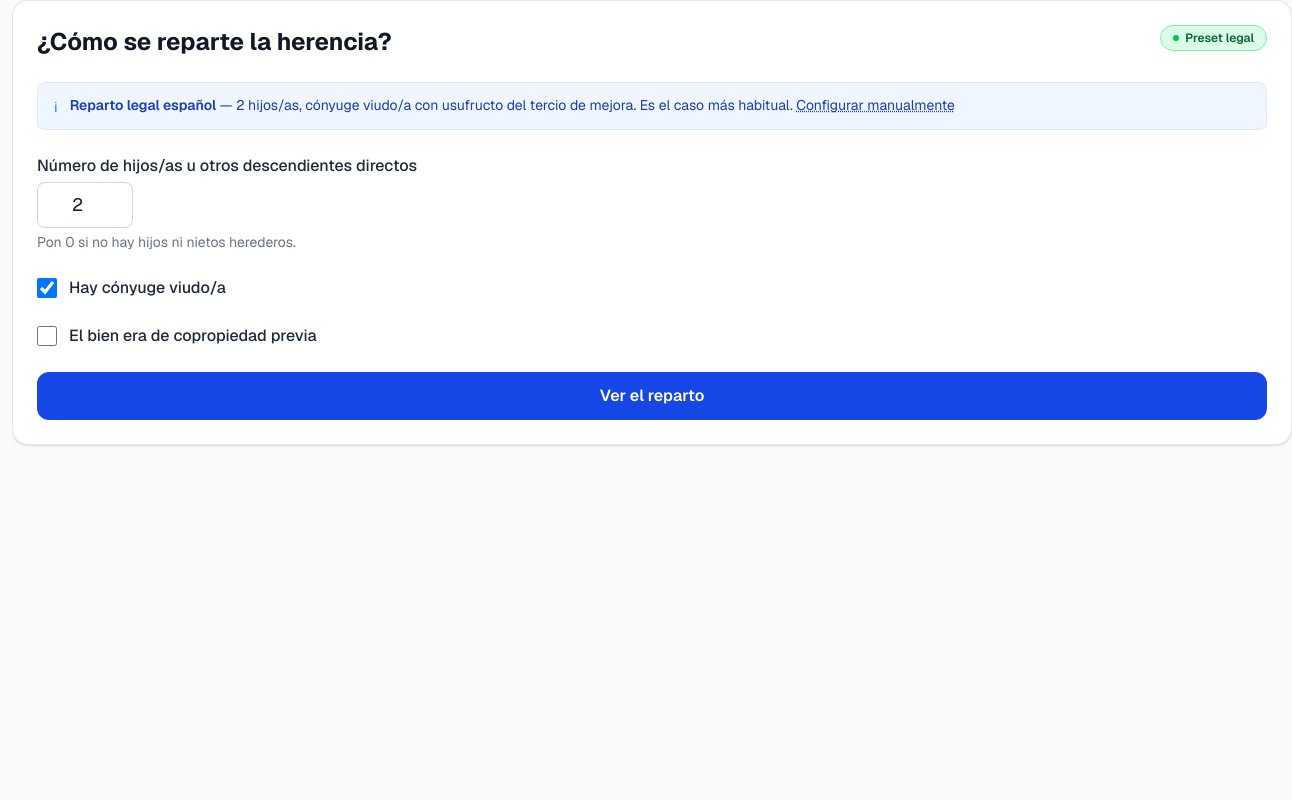
Test: SimulatorForm › submits with copropiedad correctly
This screenshot has width=1292, height=800.
Click the checkbox labelled "El bien era de copropiedad previa".
click(47, 336)  # box [37,326,57,346]
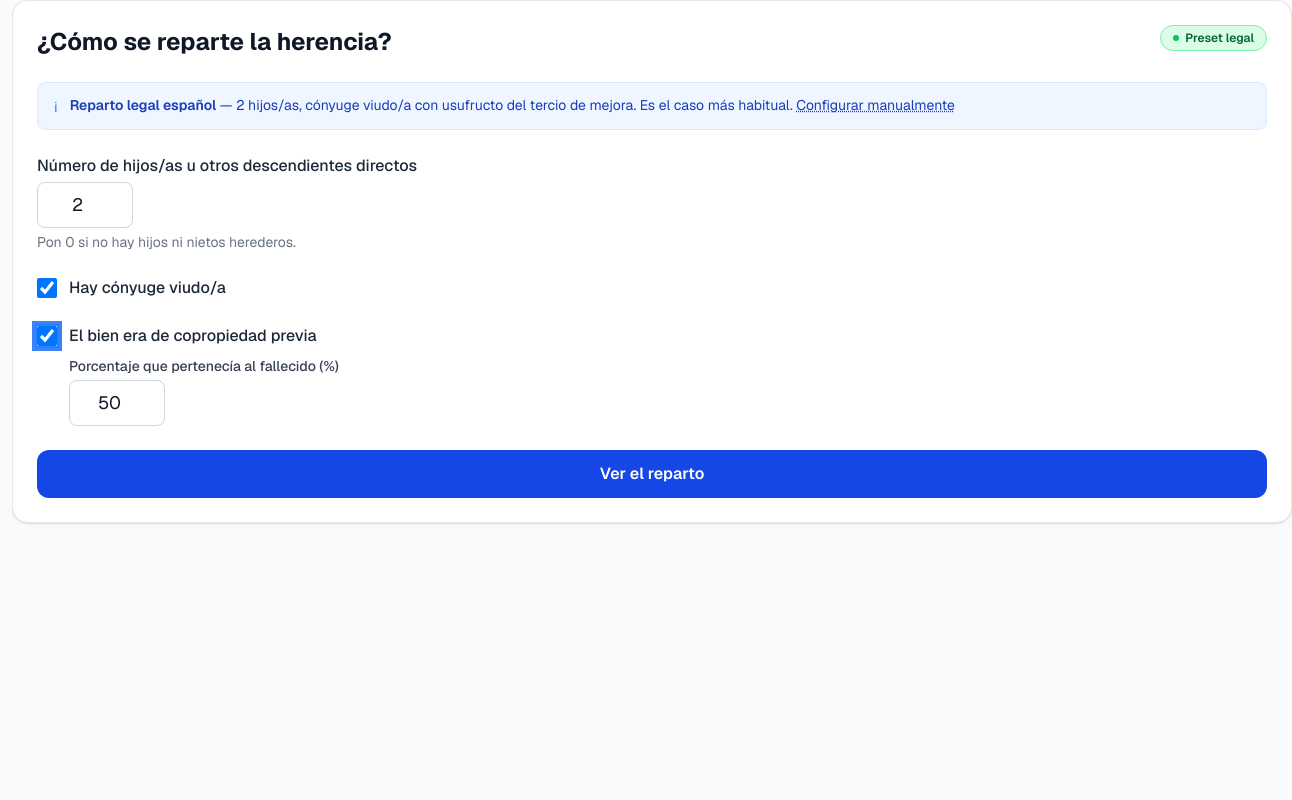
Replace the text in the number field labelled "Porcentaje que pertenecía al fallecido (%)" with "60" at (117, 403), box [69,380,165,426]
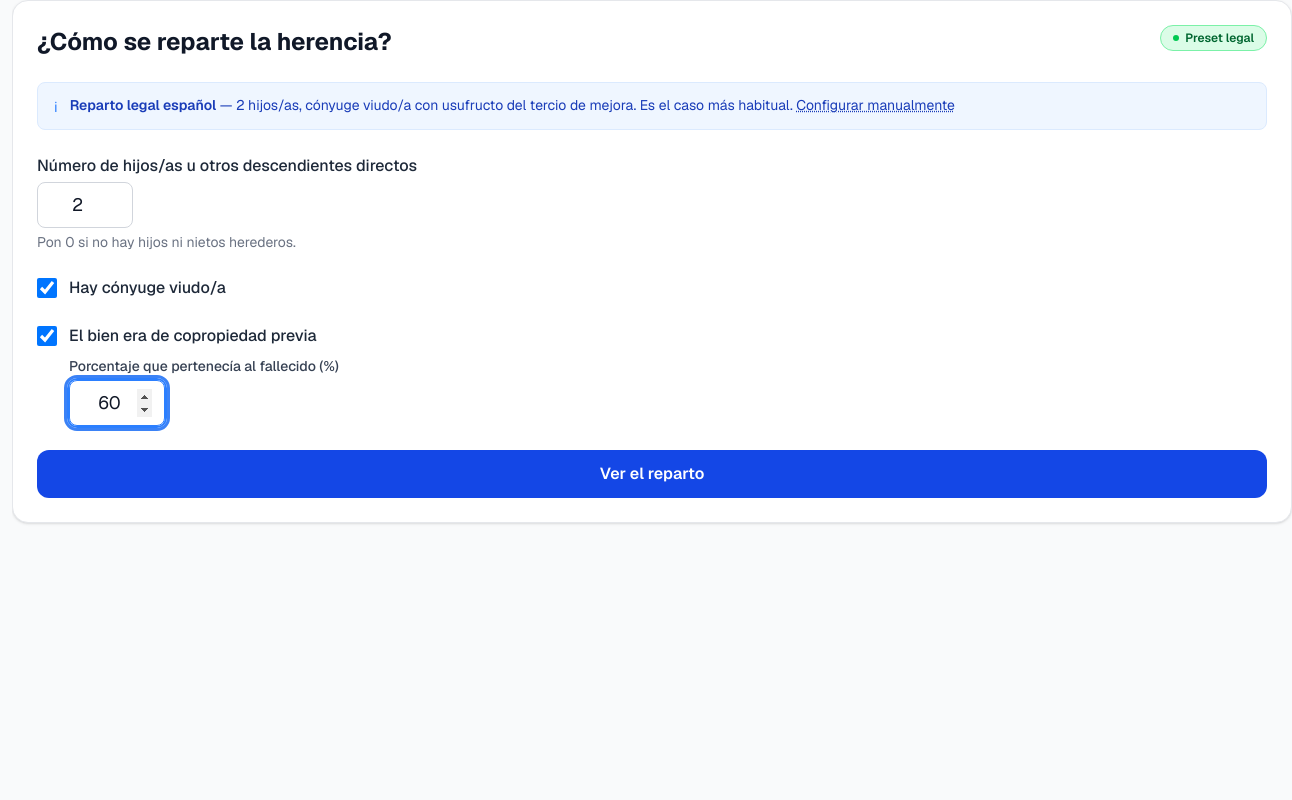
Click the button "Ver el reparto".
click(652, 474)  # box [37,450,1267,498]
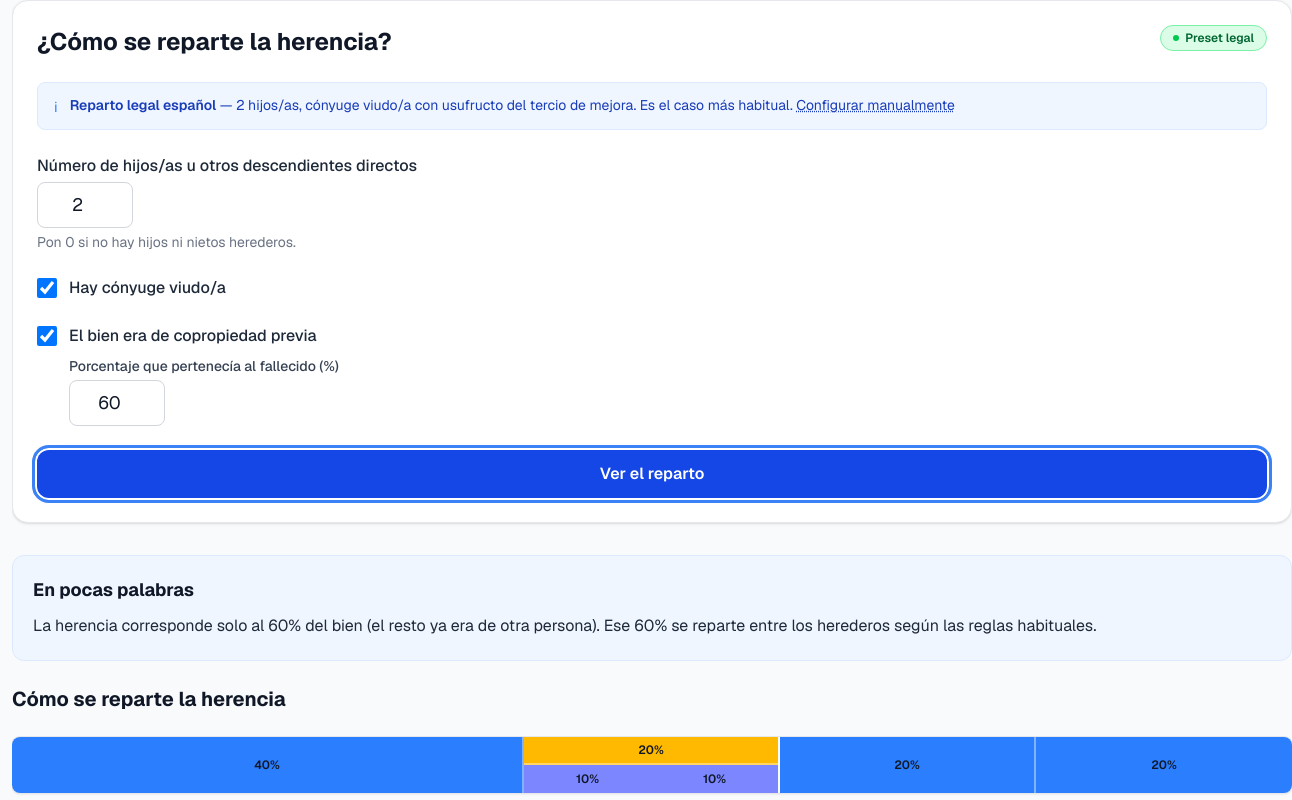
Expected: the element named "resumen del reparto" is shown, [12,555,1291,661]
